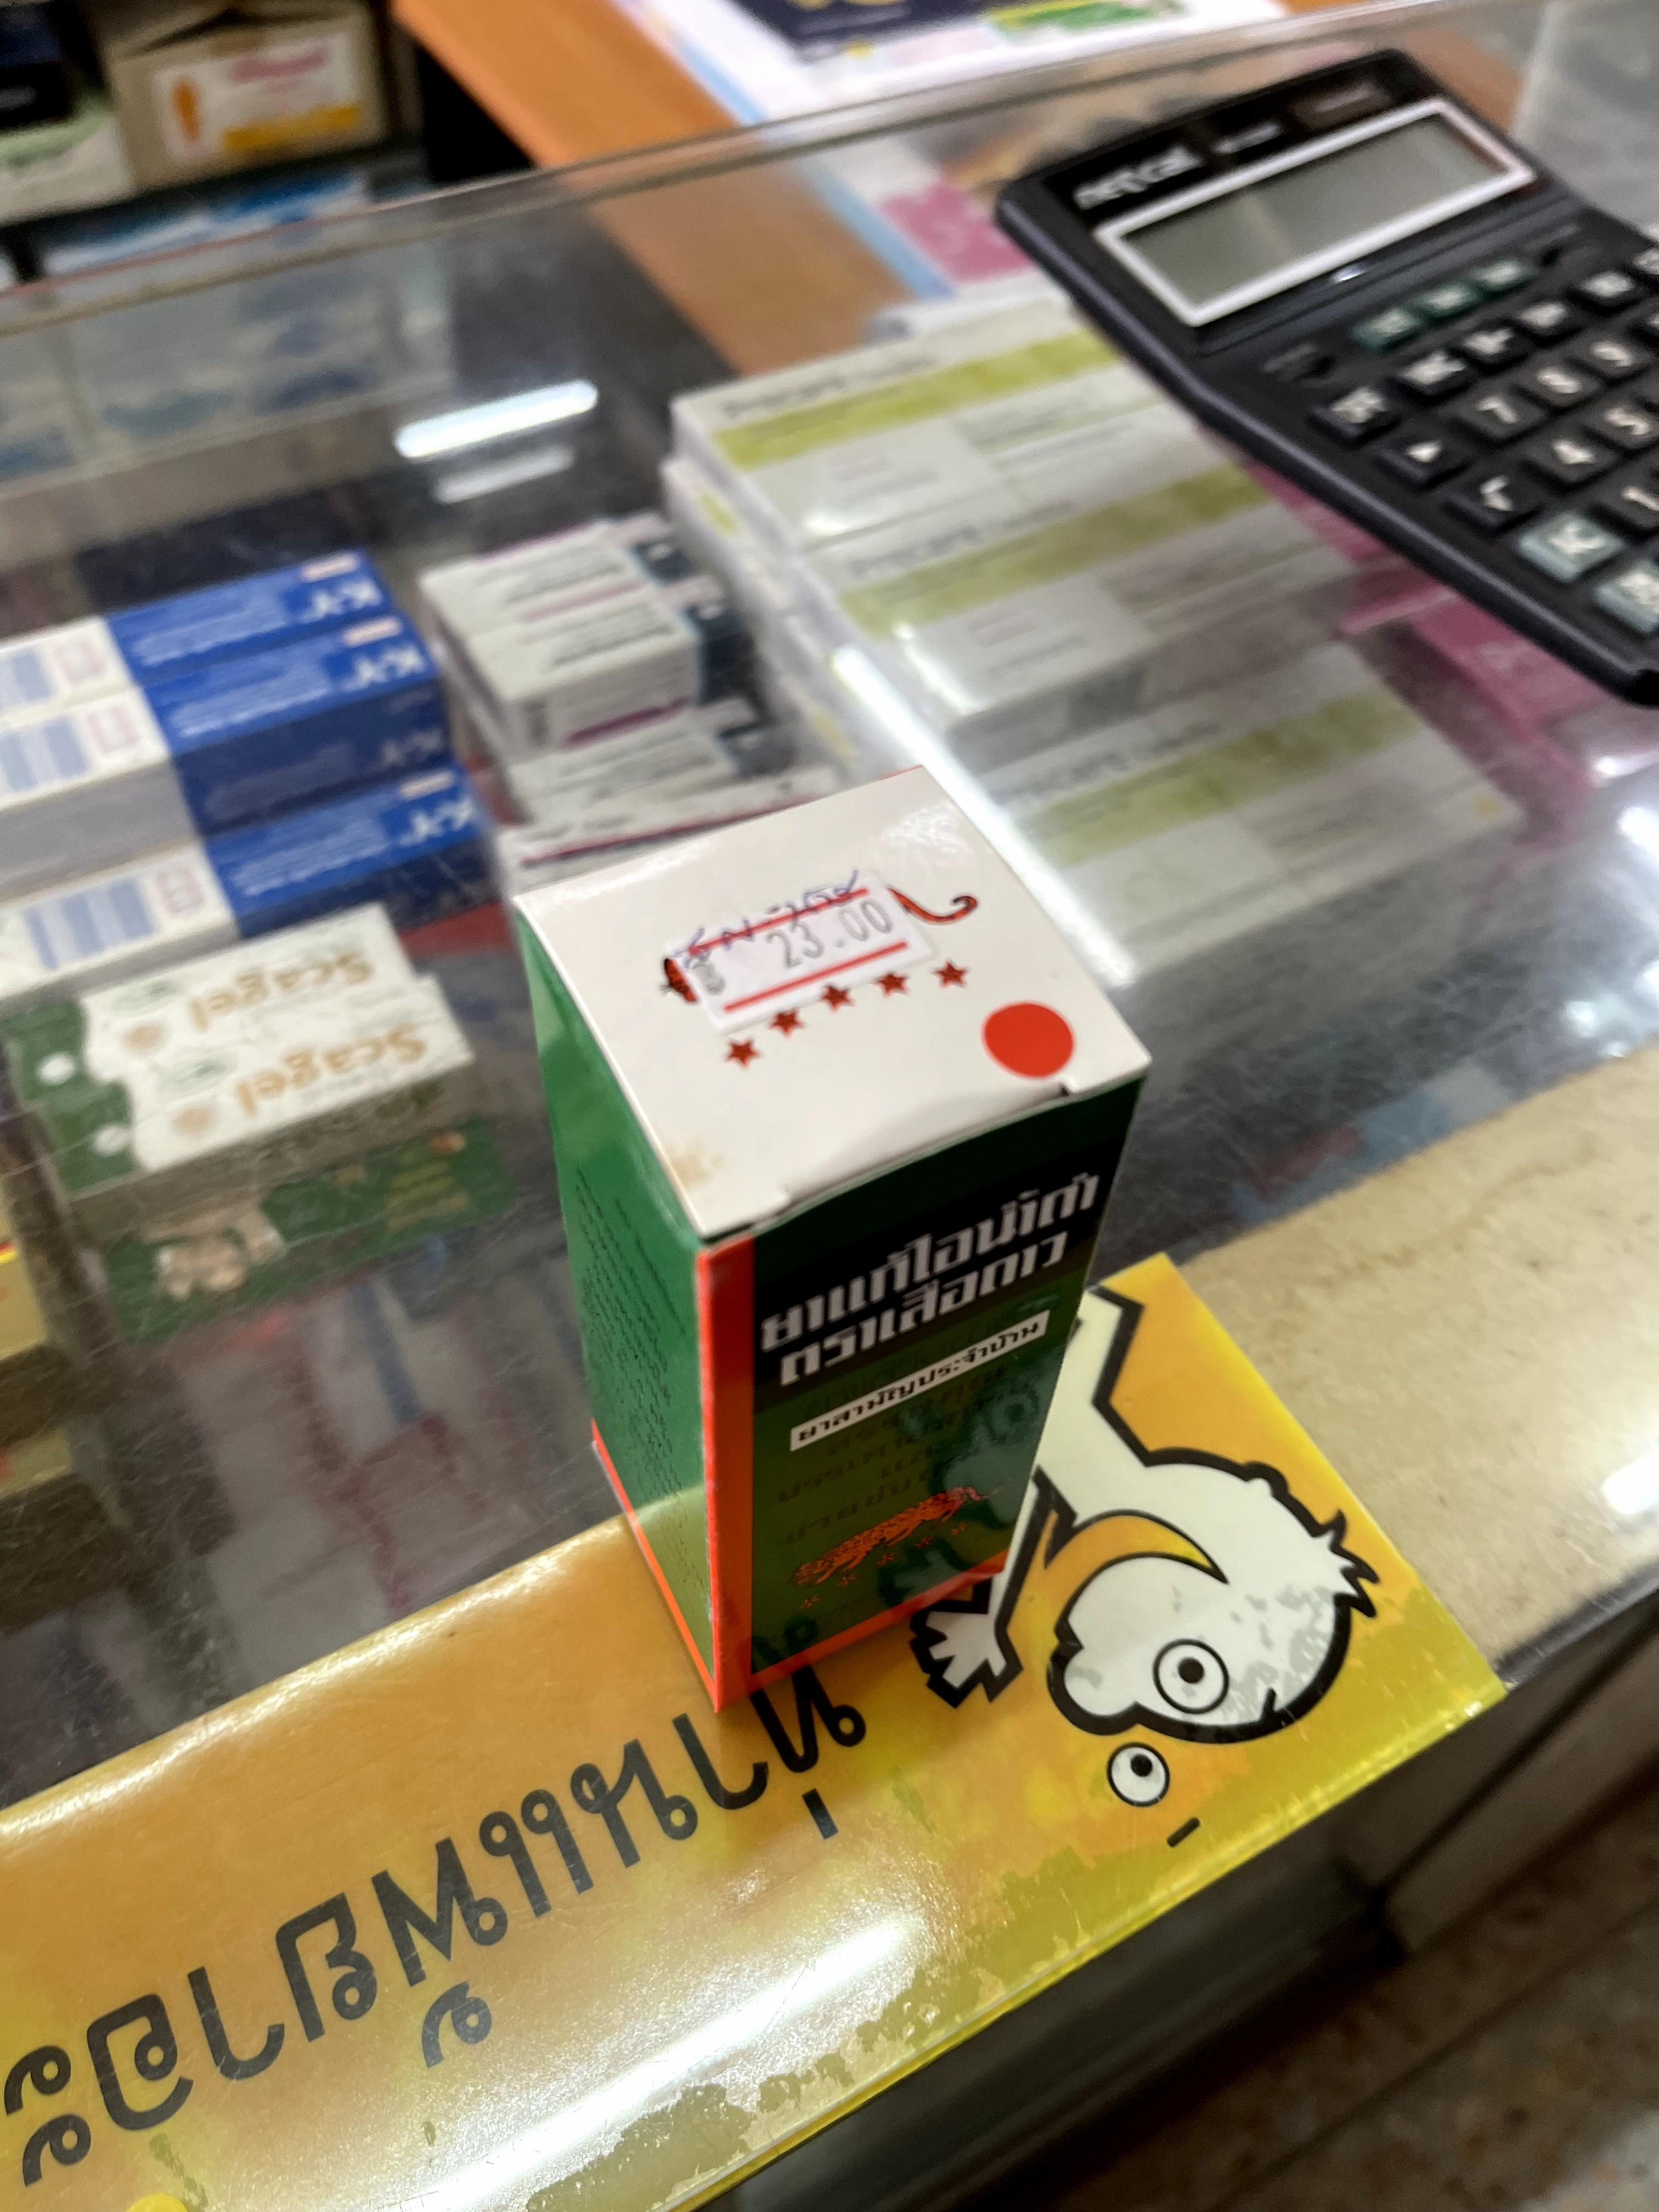Black-Tiger: (516, 768, 1141, 1717)
